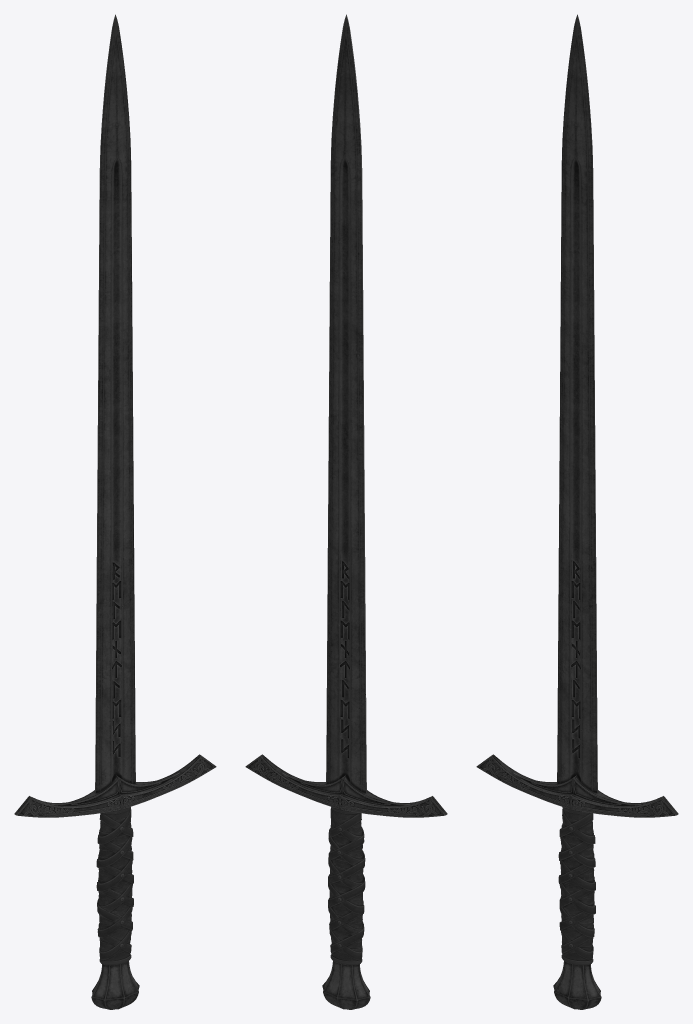
Rendered from relentless.glb.
The picture shows the model from 3 angles, left to right: view 1: azimuth 30°, elevation 25°; view 2: azimuth 150°, elevation 25°; view 3: azimuth 330°, elevation 25°; orthographic projection.
Parts seen in each view (by area): view 1: sword; view 2: sword; view 3: sword.
Part boxes in pixels (left/top/right/bottom): sword: left=14, top=14, right=216, bottom=1009; sword: left=245, top=14, right=447, bottom=1009; sword: left=476, top=14, right=678, bottom=1009.
Bounding box in the file's own units: 17.67 × 83.63 × 2.77.
1 material, 1 textured.
